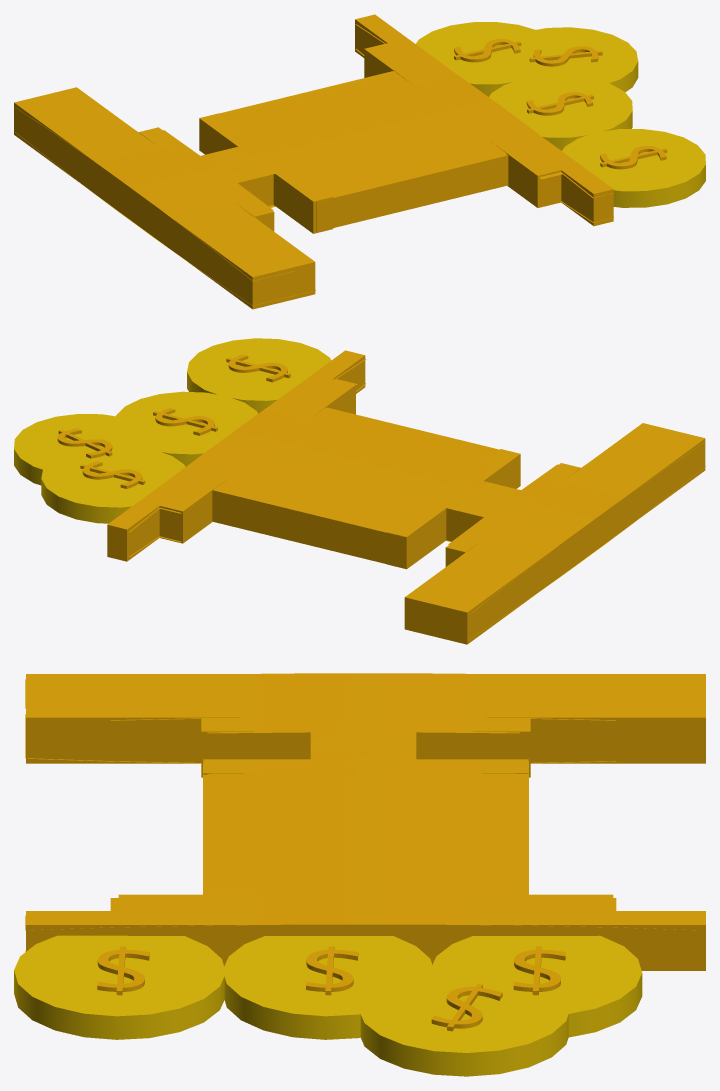
File: coinCup1Obj.fbx
3 views of the same model, one above another, from view 1: azimuth 30°, elevation 25°; view 2: azimuth 150°, elevation 25°; view 3: azimuth 270°, elevation 25° (orthographic). The views are drawn at different scales.
Visible parts, largest first — view 1: coinCup1Obj; view 2: coinCup1Obj; view 3: coinCup1Obj.
Part boxes in pixels (x1=…): coinCup1Obj: x1=14, y1=14, x2=705, y2=309; coinCup1Obj: x1=14, y1=338, x2=705, y2=644; coinCup1Obj: x1=14, y1=673, x2=705, y2=1076.
Bounding box in the file's own units: 2.27 × 0.1349 × 1.8.
